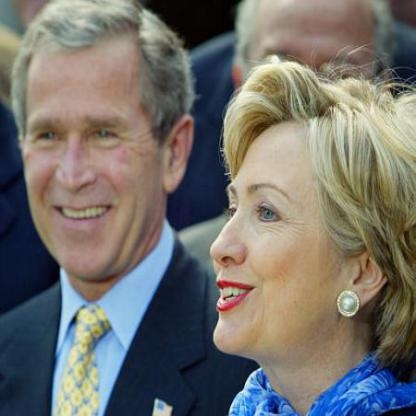face: (195, 82, 366, 379), (19, 1, 170, 283)
